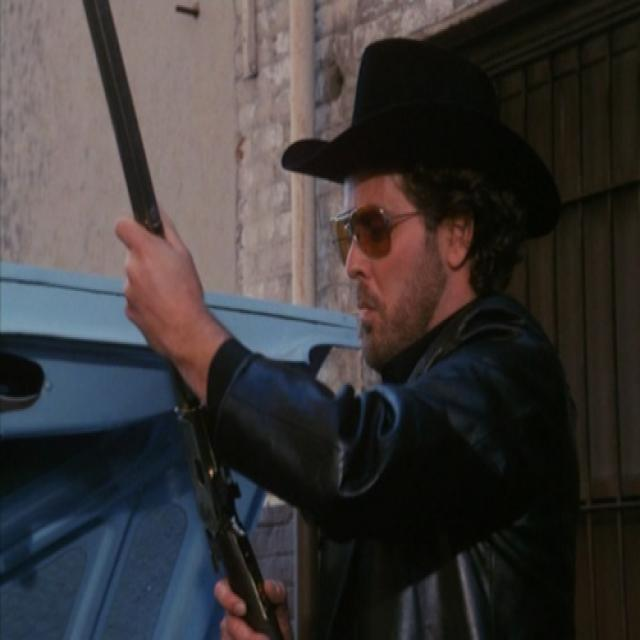rifle: (72, 1, 291, 640)
